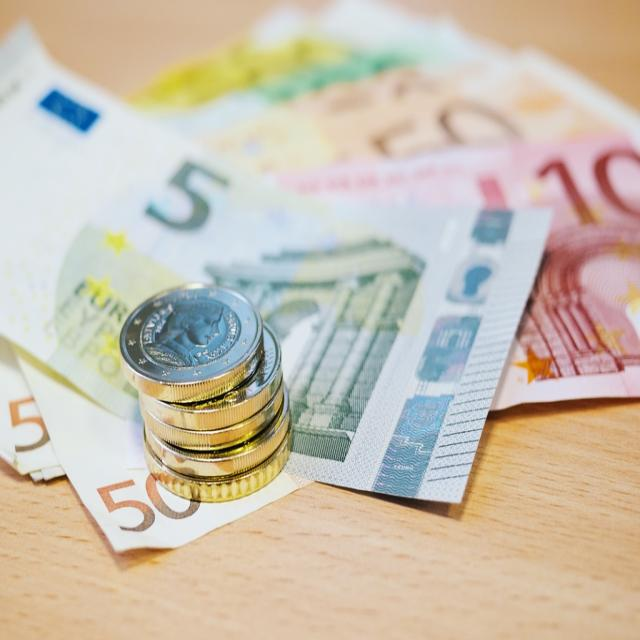Coin: (115, 276, 294, 501)
